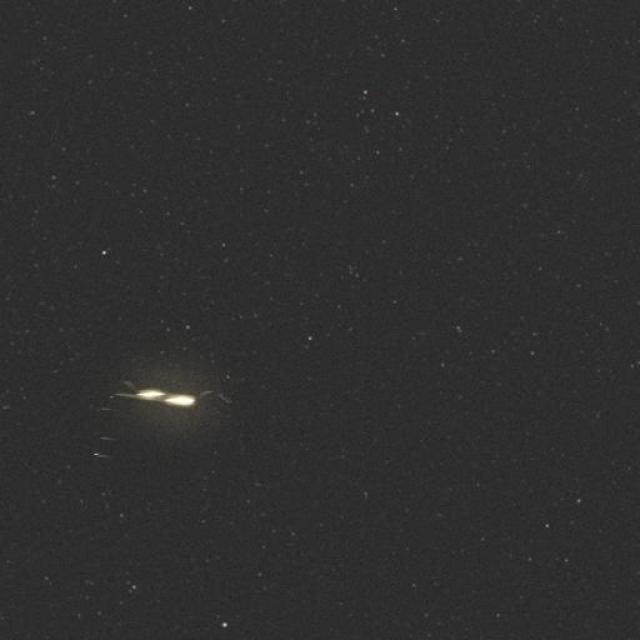proba_3_ocs: (65, 353, 270, 496)
